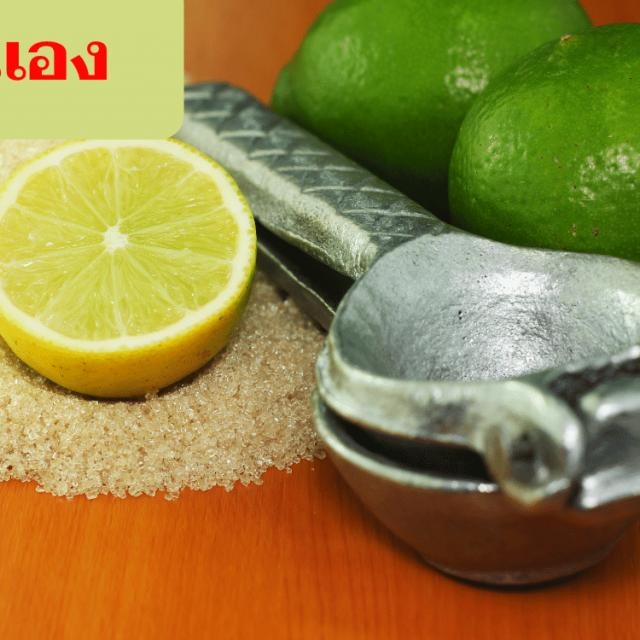lime: (421, 7, 640, 365), (264, 0, 610, 211)
